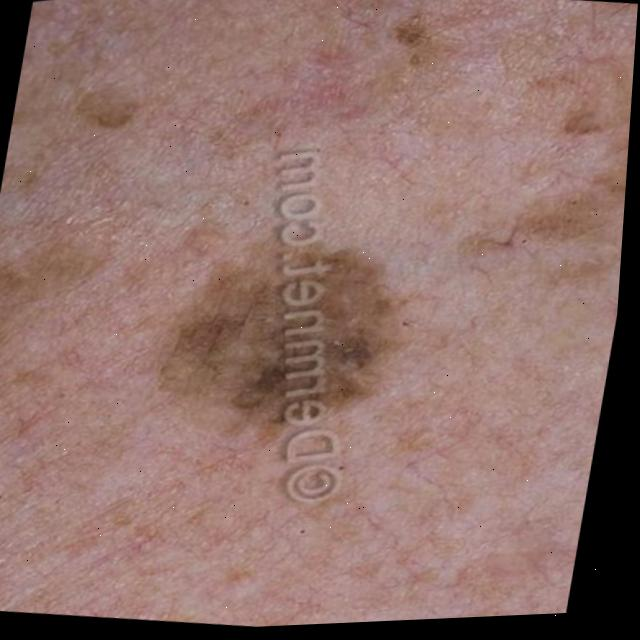Eczema: (226, 259, 433, 407)
